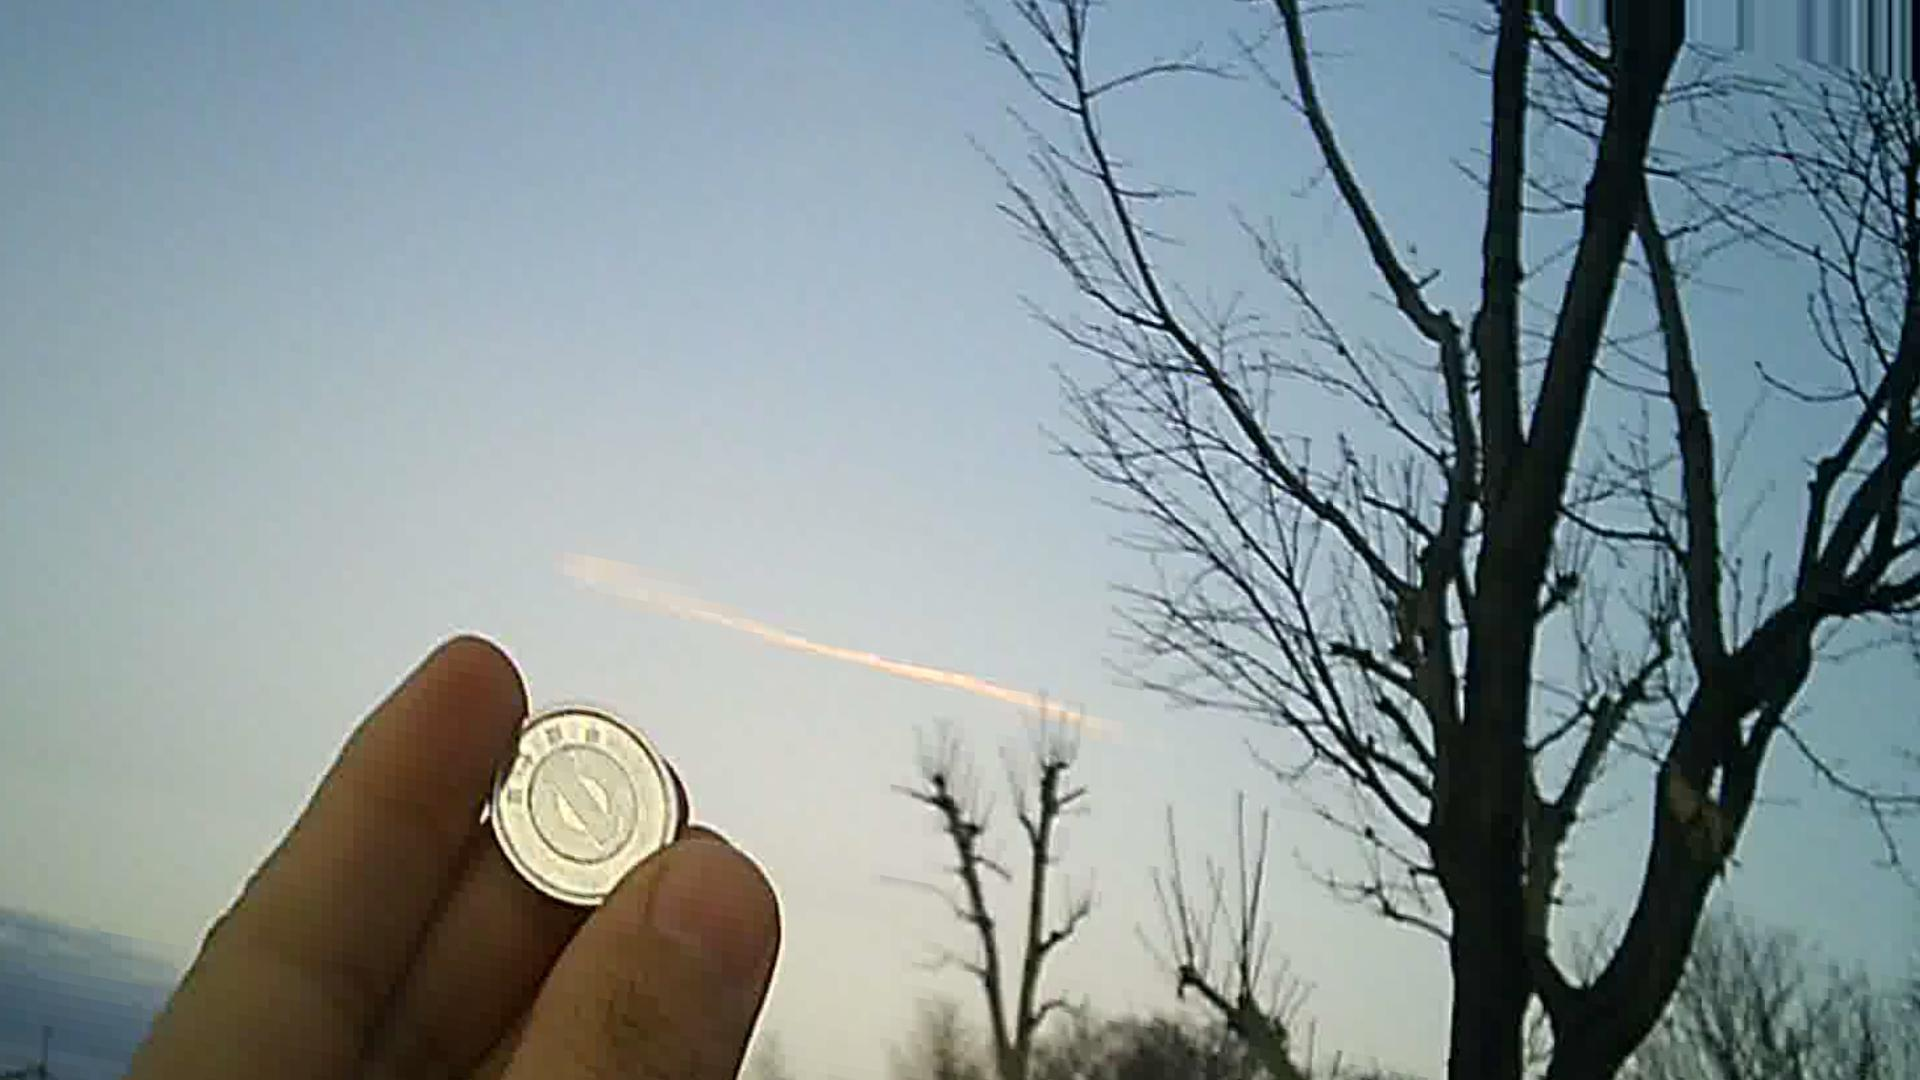1 Yen: (475, 696, 683, 913)
